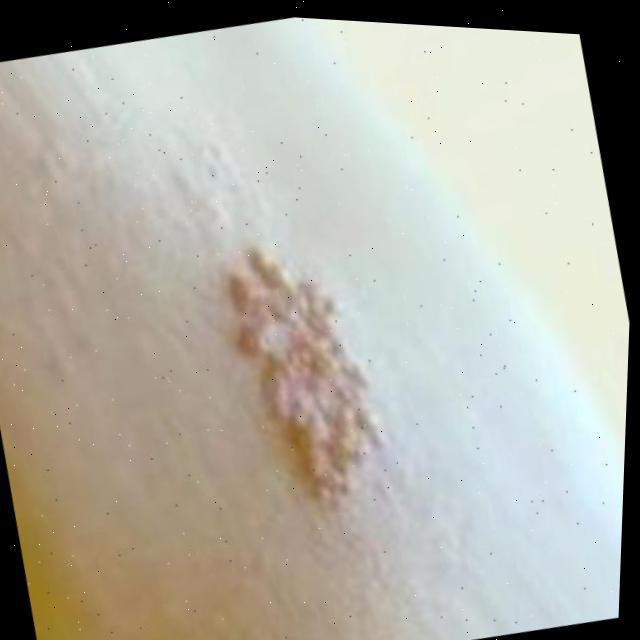Shingles: (200, 225, 411, 535)
